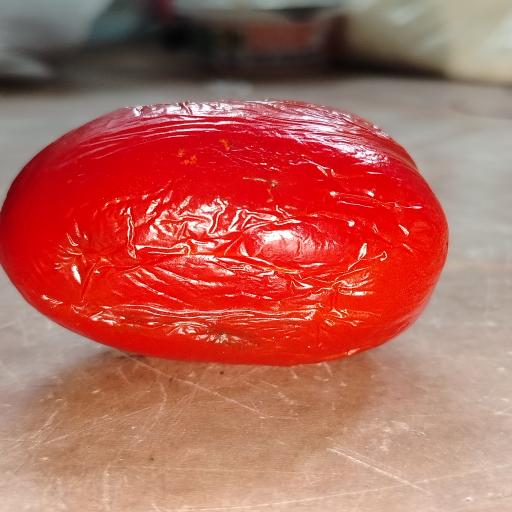spoiled: (0, 101, 447, 365)
